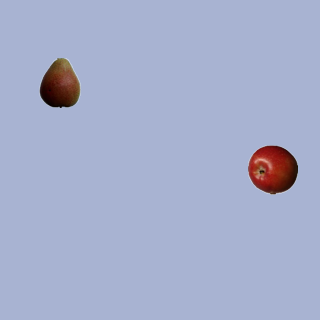Apple Braeburn: (247, 144, 297, 194)
Pear Forelle: (34, 57, 84, 107)
